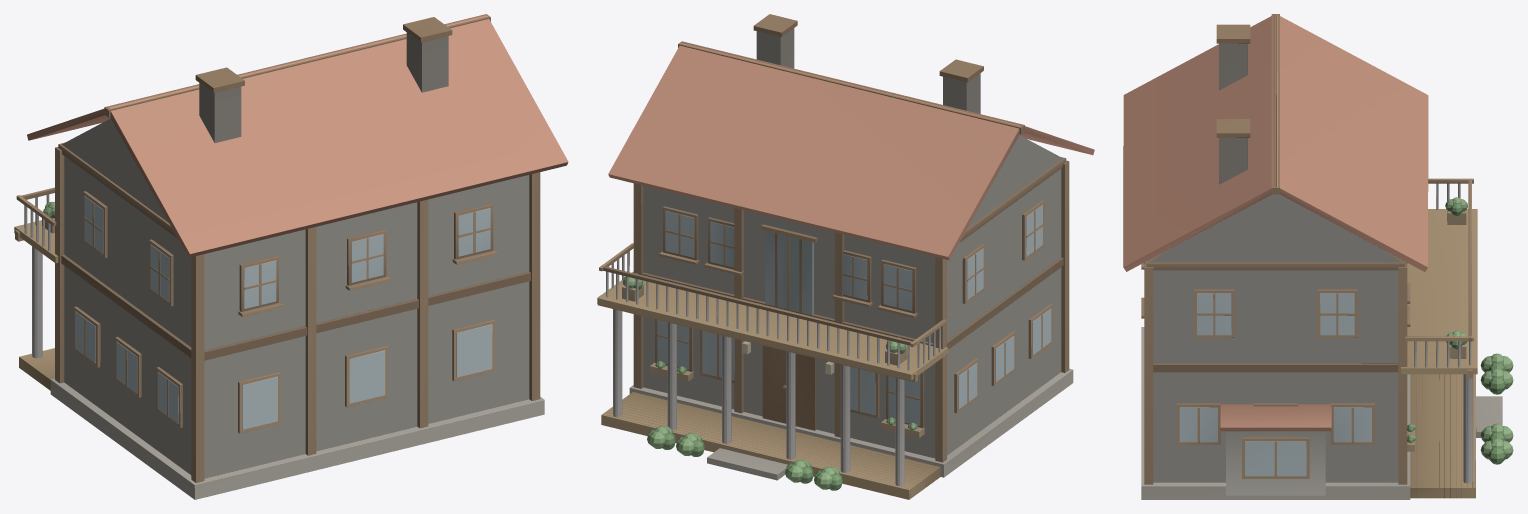
File: home_manor2__red_low.glb
3 renders of one model, left to right at view 1: azimuth 30°, elevation 25°; view 2: azimuth 150°, elevation 25°; view 3: azimuth 270°, elevation 25°, orthographic. The views are drawn at different scales.
Bounding box in the file's own units: 11.05 × 9.84 × 10.14.
